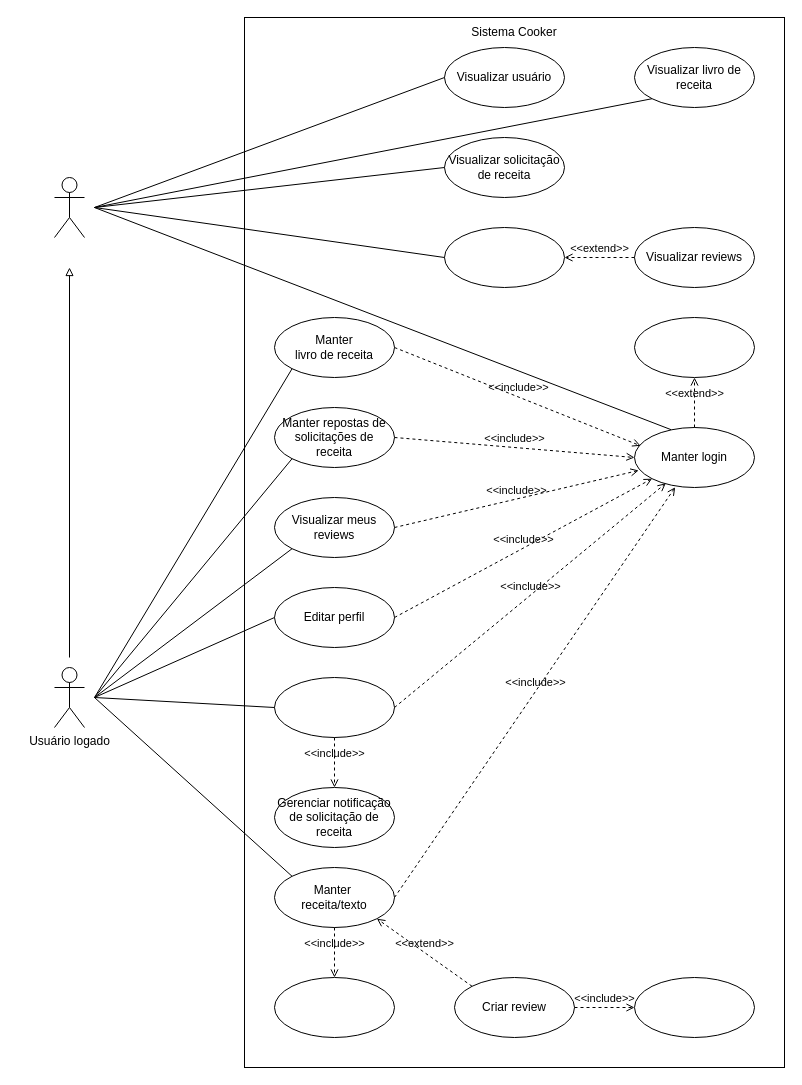
The diagram is 802 pixels wide and 1085 high, and some of its shapes have lost their labels. Here are the shapes that lost their labels. From the top down, the centre of each, then its label:
the point at 69,207: Usuário não logado
the point at 504,257: Visualizar receita/texto
the point at 694,347: Recuperar senha
the point at 334,707: Criar solicitação de receita
the point at 334,1007: Gerenciar notificação de interesse de receita
the point at 694,1007: Calcular rank
